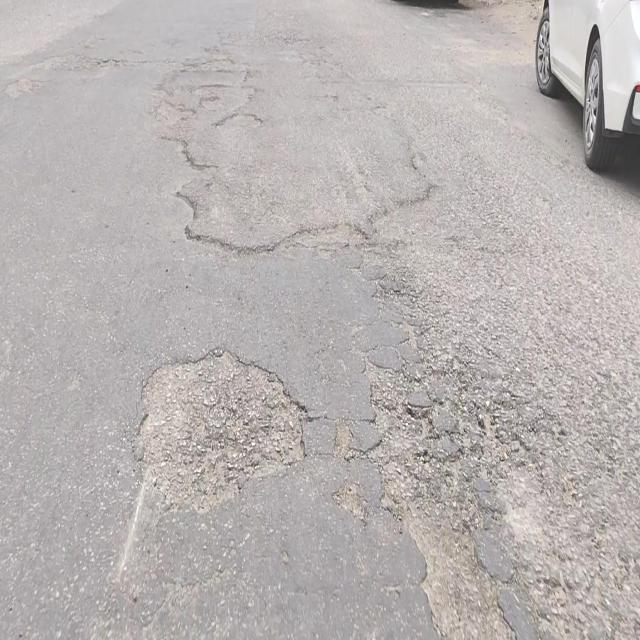Potholes: (129, 353, 309, 517), (390, 455, 509, 640)
